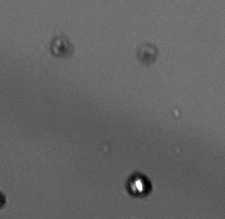Dead Cell: (51, 35, 73, 56), (137, 43, 157, 63)
Living Cell: (125, 170, 155, 199)
